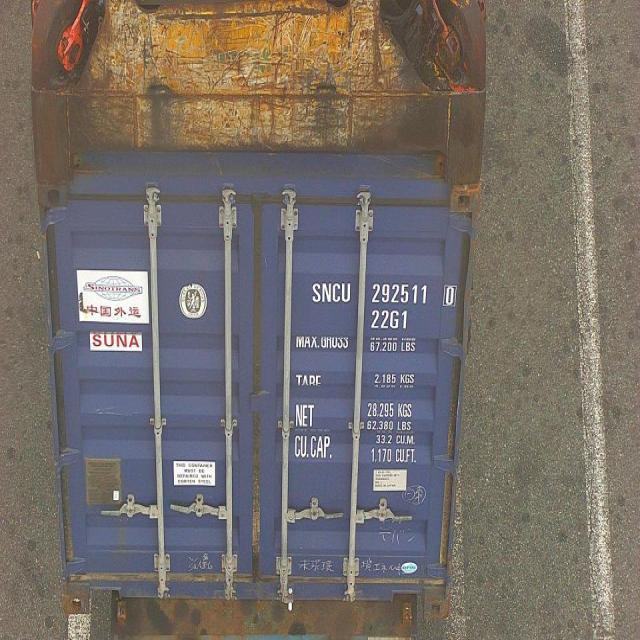ISO: (371, 310, 410, 332)
container_number: (312, 281, 449, 307)
